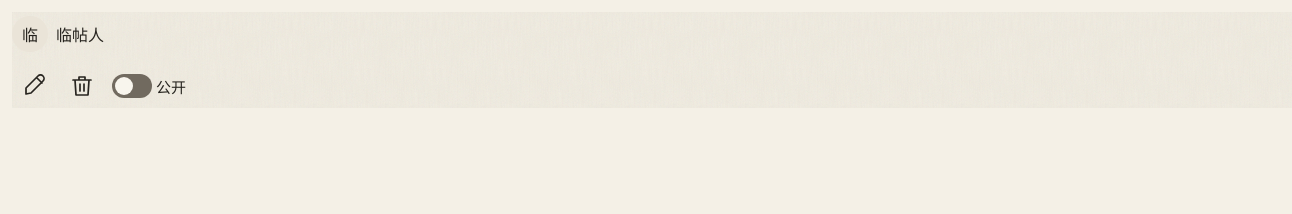
Test case: Work detail actions for the author › makes a self-only work public without a confirmation, in neutral wording
Click the switch labelled "公开". click: (149, 86)
box: 108,64 -> 190,108
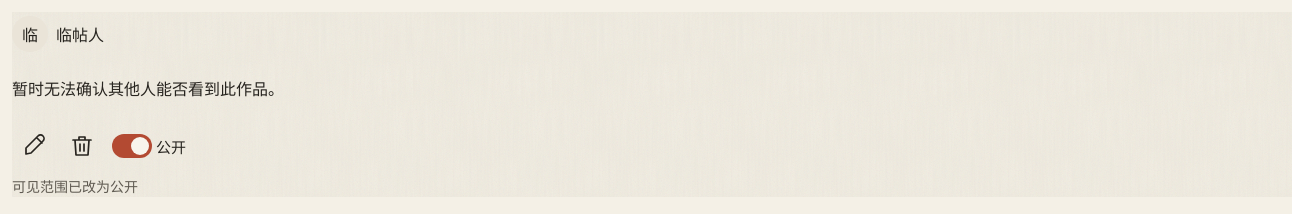
Check: the message "可见范围已改为公开" is shown, box 12,178 -> 138,195
